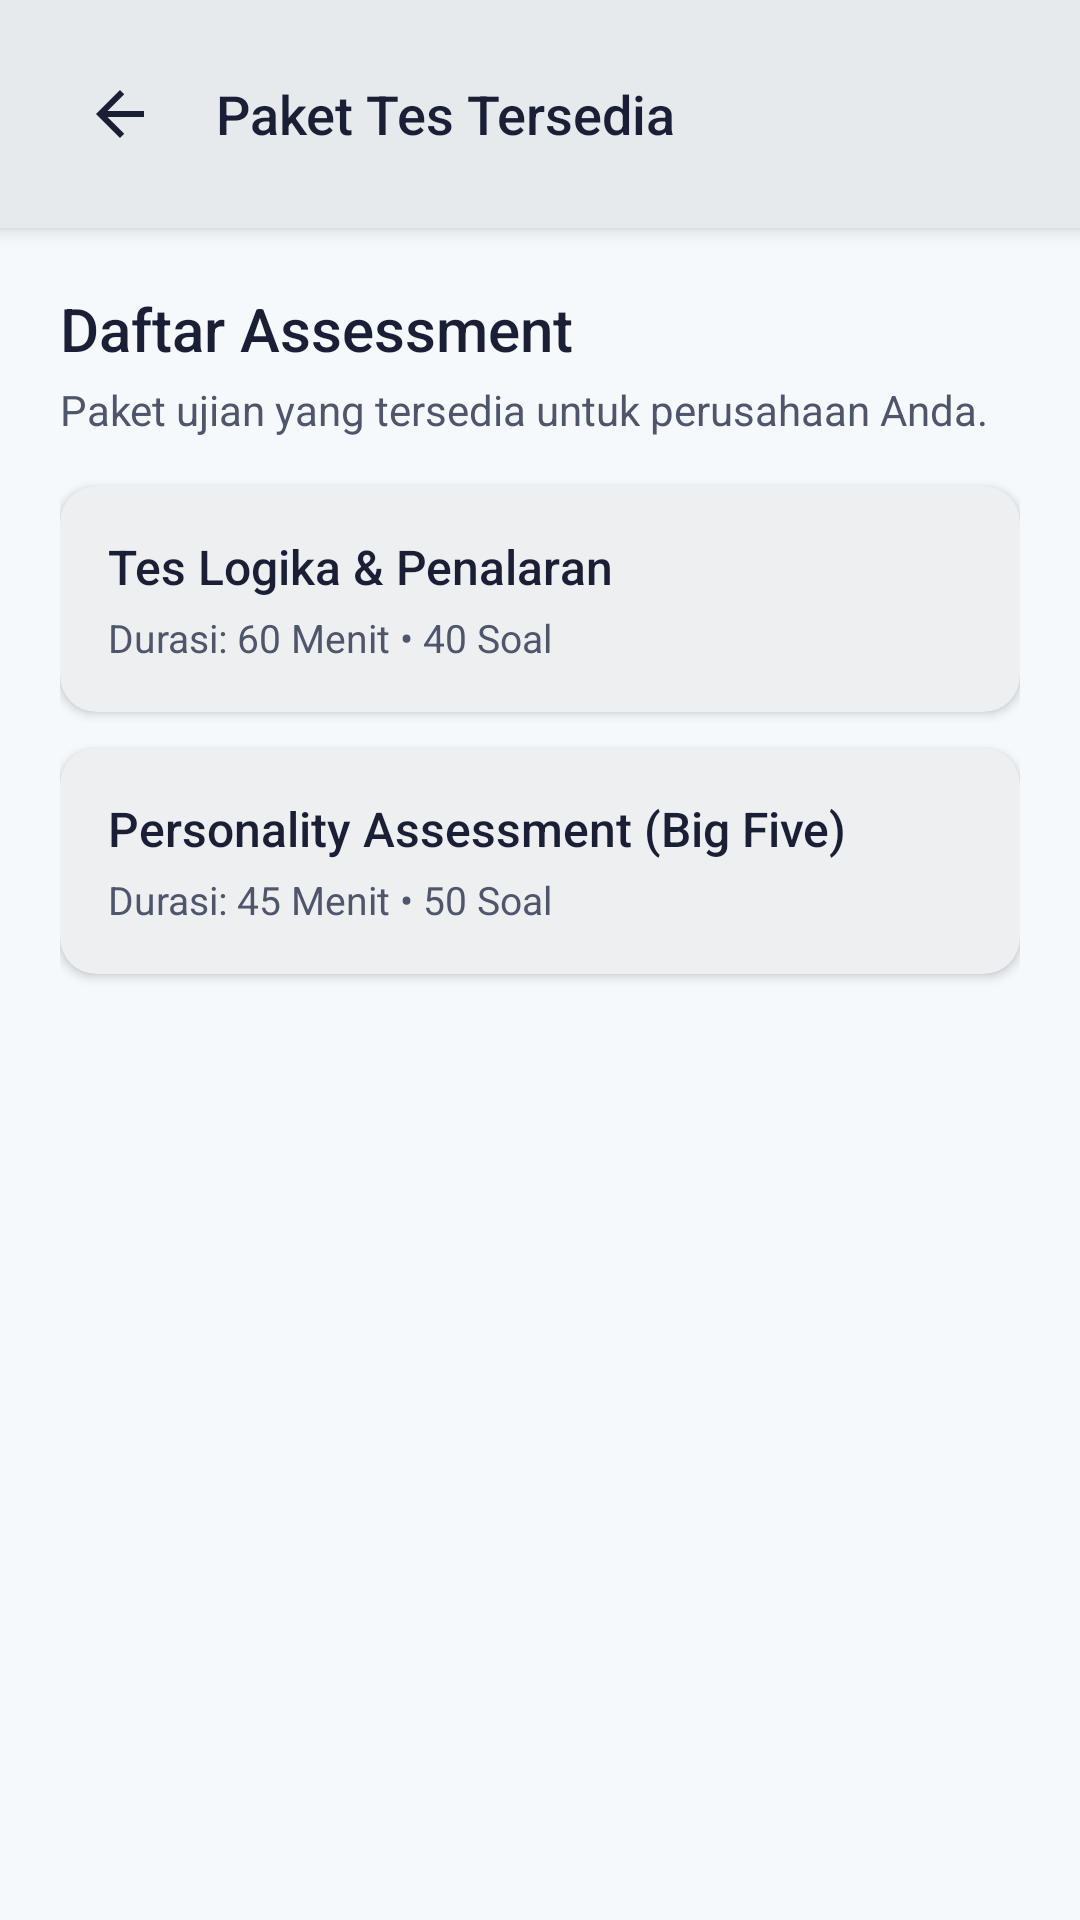

Where to tap for icons on this 1080 × 1920 app screen, as (x=x, y=y):
Batal: (x=120, y=114)
